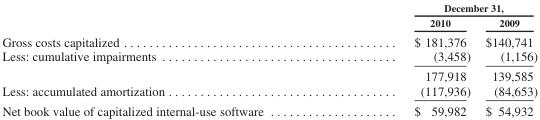table: (1, 1, 536, 117)
table column: (1, 1, 338, 117), (338, 1, 477, 117), (477, 1, 536, 117)
table column header: (1, 1, 536, 31)
table row: (1, 65, 536, 83), (1, 14, 536, 31), (1, 31, 536, 48), (1, 48, 536, 65), (1, 83, 536, 100), (1, 100, 536, 117), (1, 1, 536, 14)
table spanning cell: (338, 1, 536, 14)
